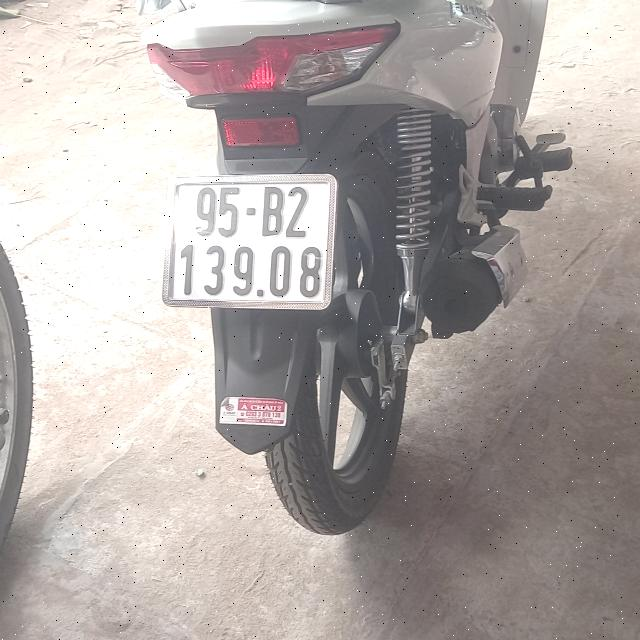0: (270, 246, 292, 297)
1: (179, 244, 195, 295)
2: (286, 184, 308, 240)
3: (204, 244, 227, 295)
5: (219, 188, 240, 238)
8: (299, 246, 322, 297)
9: (232, 246, 253, 295), (195, 188, 215, 236)
B: (261, 186, 285, 237)
